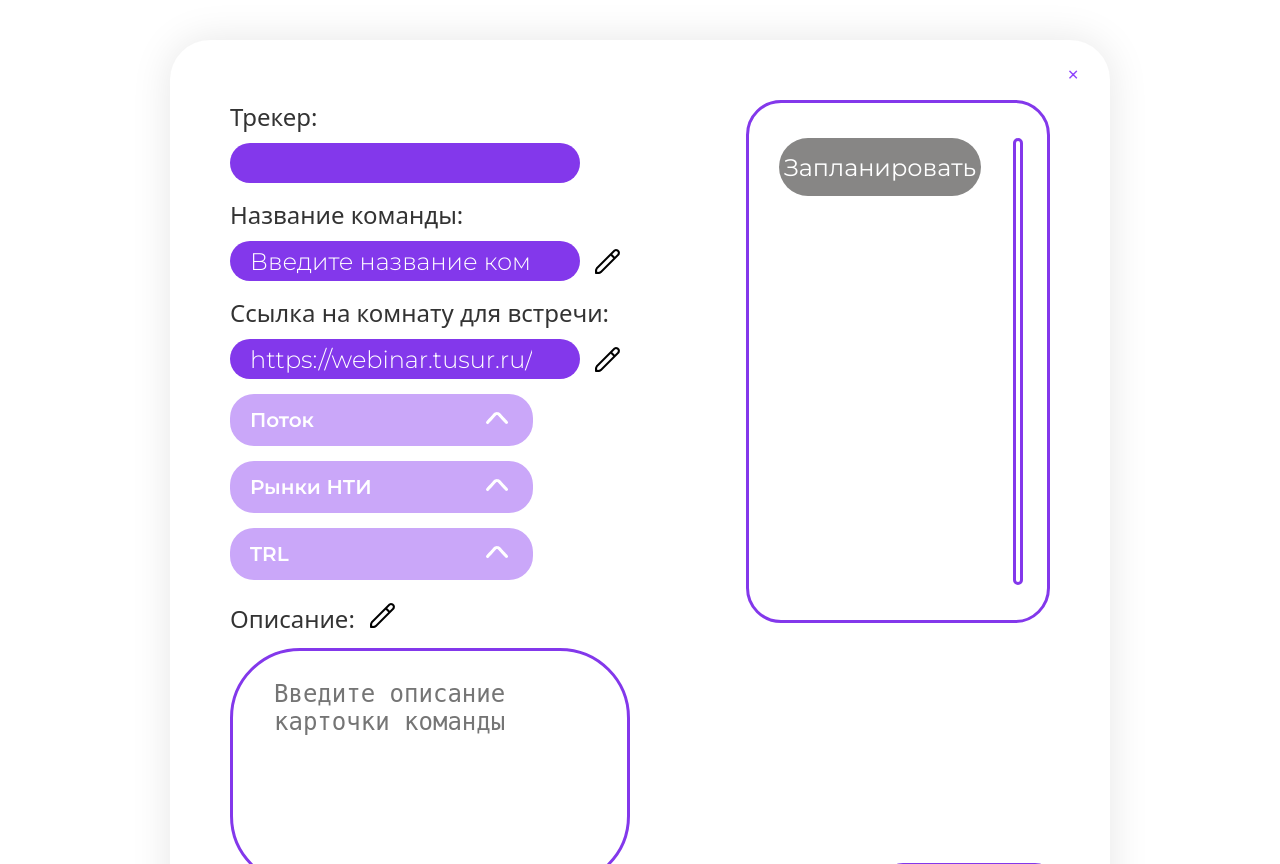
TeamCard — создание карточки команды › показывает сообщение при нажатии Запланировать
Click the button "Запланировать" at (880, 167), box x1=779 y1=138 x2=981 y2=196
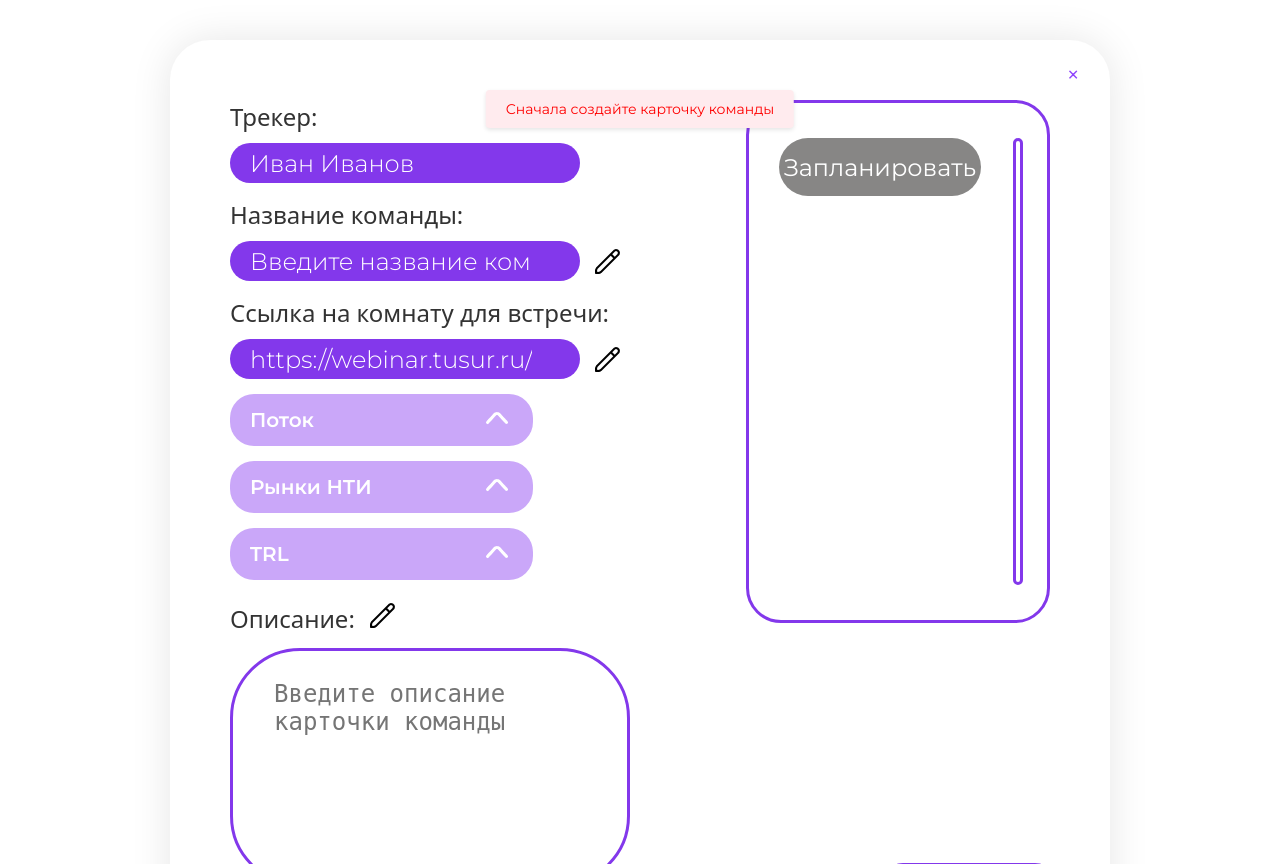
Result: the button "Сначала создайте карточку команды" is shown at x1=486 y1=90 x2=794 y2=128
